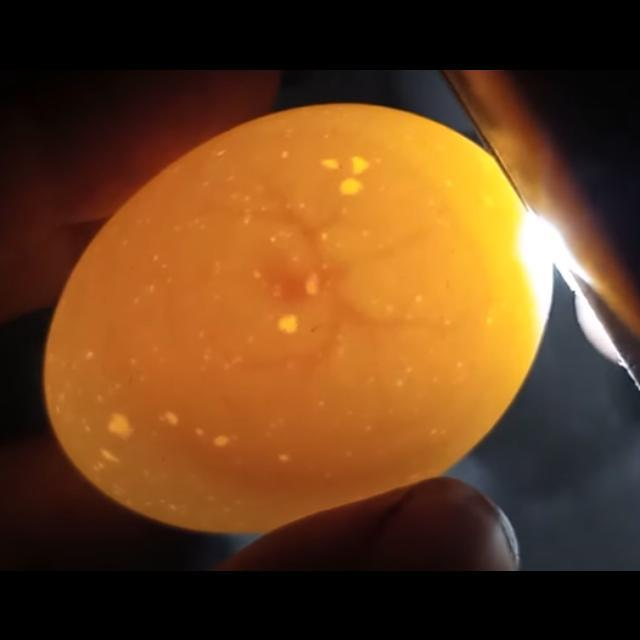Fertile: (40, 96, 562, 542)
